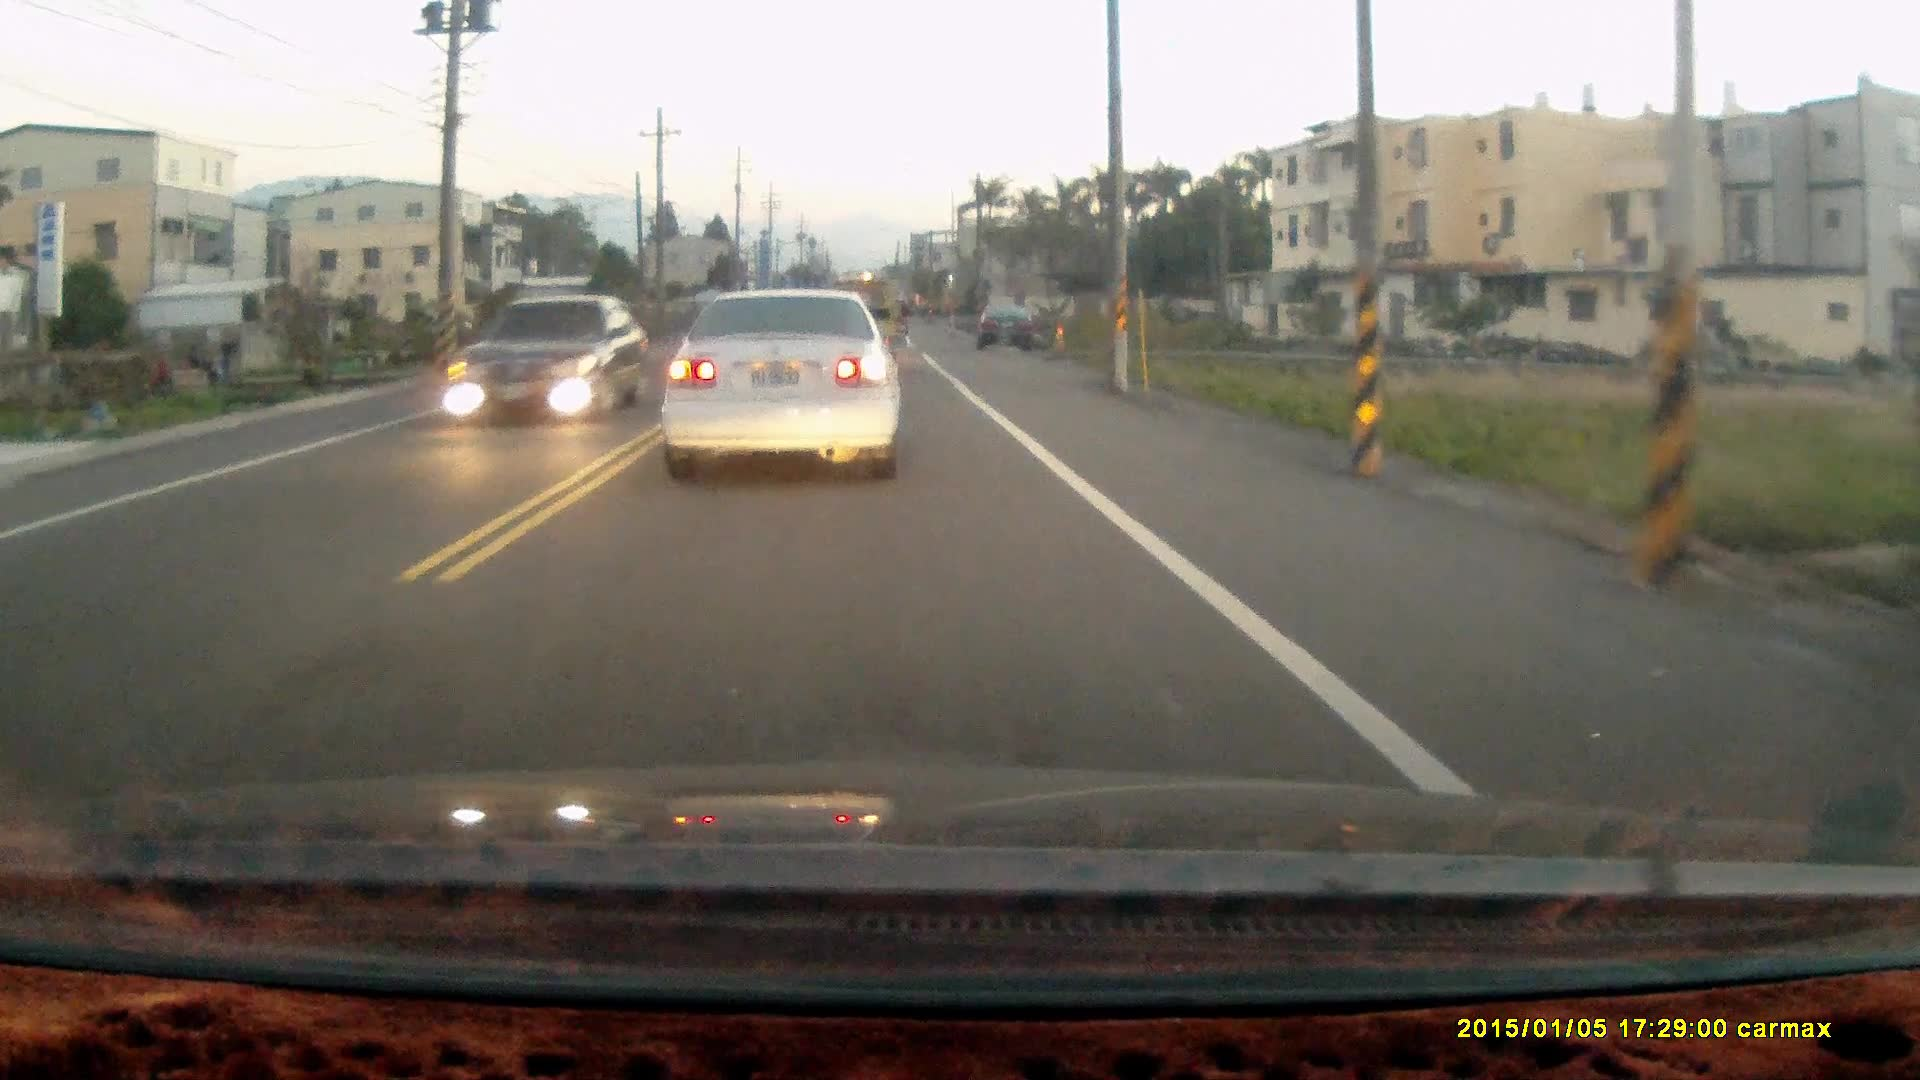pedestrian: (148, 355, 173, 403), (218, 330, 238, 379)
vehicle: (663, 282, 906, 482), (446, 296, 652, 427), (979, 306, 1040, 355)
